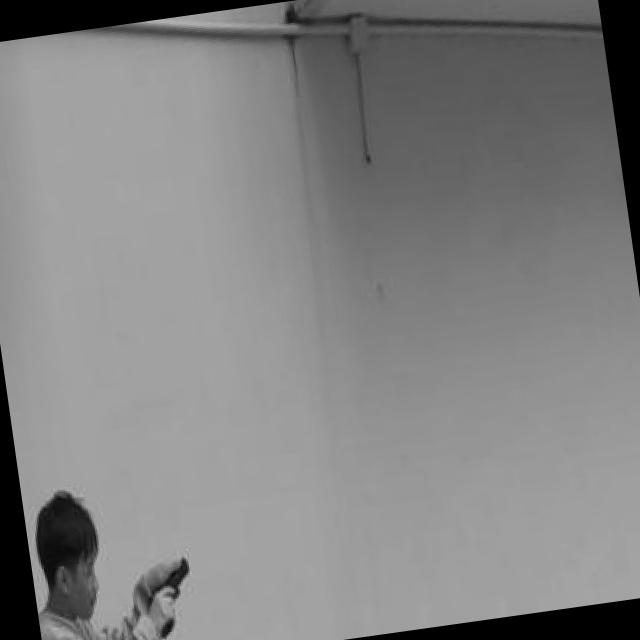Guns: (127, 543, 210, 640)
